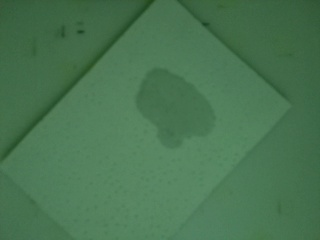Water_detected: (150, 74, 214, 135)
